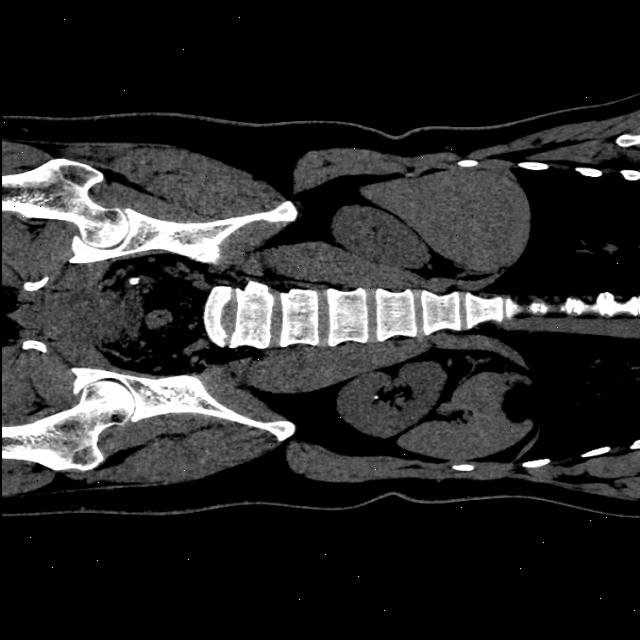kidneystone: (374, 391, 382, 400)
